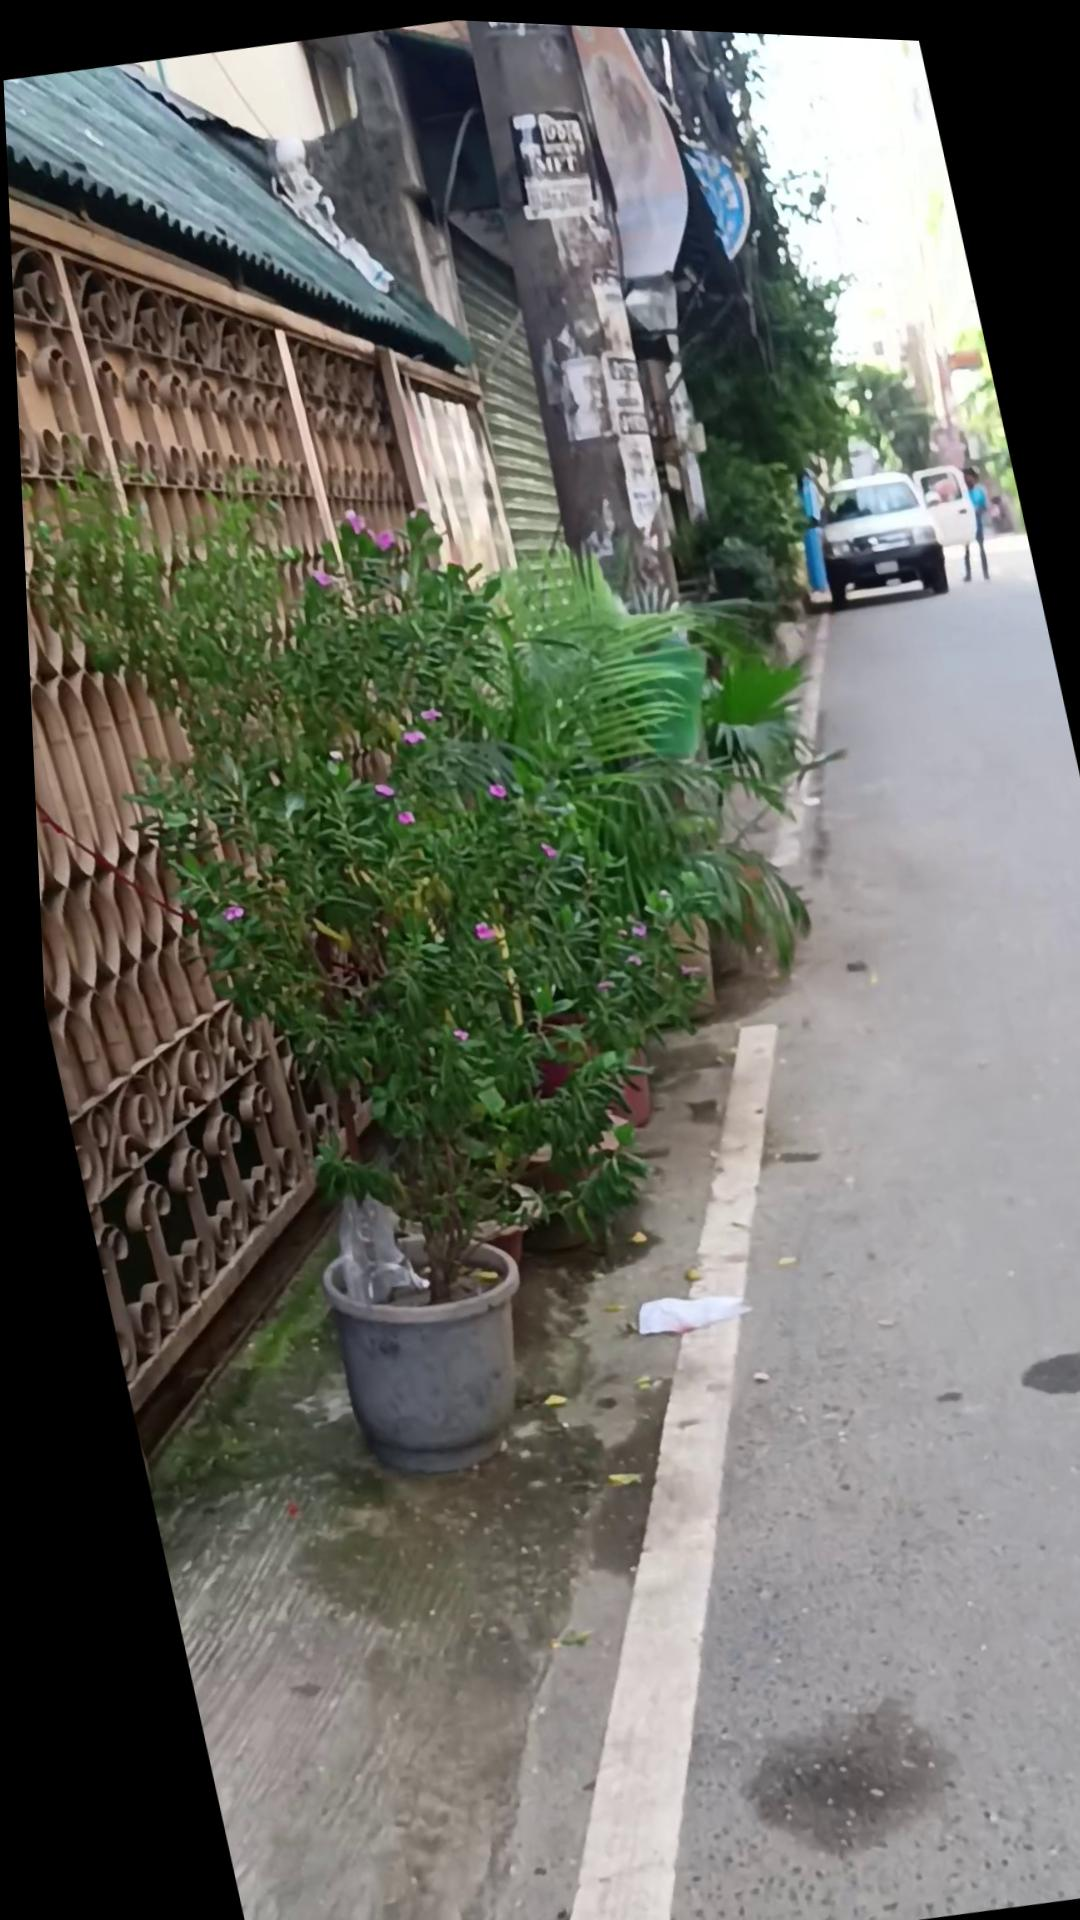Bollard: (796, 452, 949, 607)
Curb: (932, 452, 1000, 576)
Dog: (446, 16, 700, 634)
Fallen-tree: (24, 400, 963, 1524)
